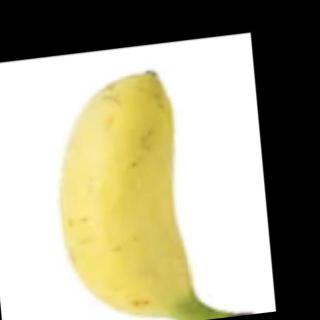banana: (33, 57, 216, 320)
